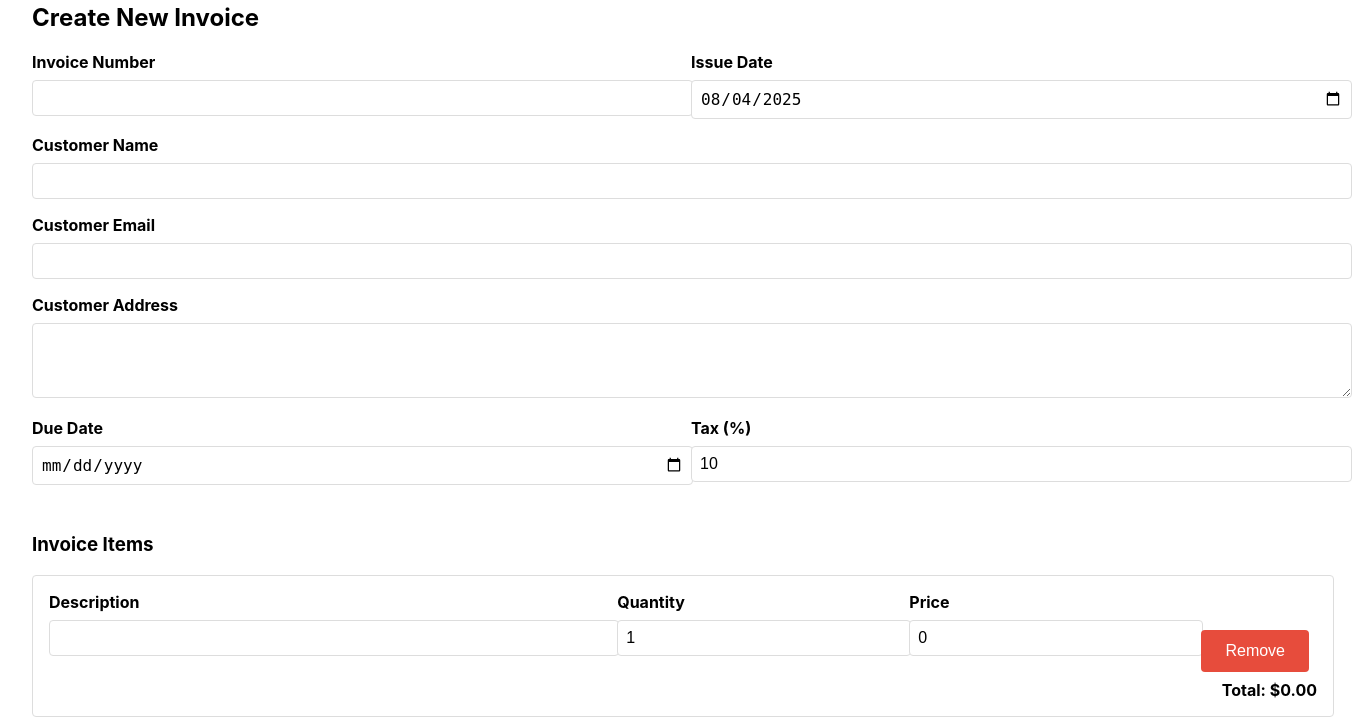
Test: InvoiceForm Component › handles floating point calculations correctly
Replace the text in the number field showing "1" below "Quantity" with "3" at (764, 638), box [617,620,911,656]
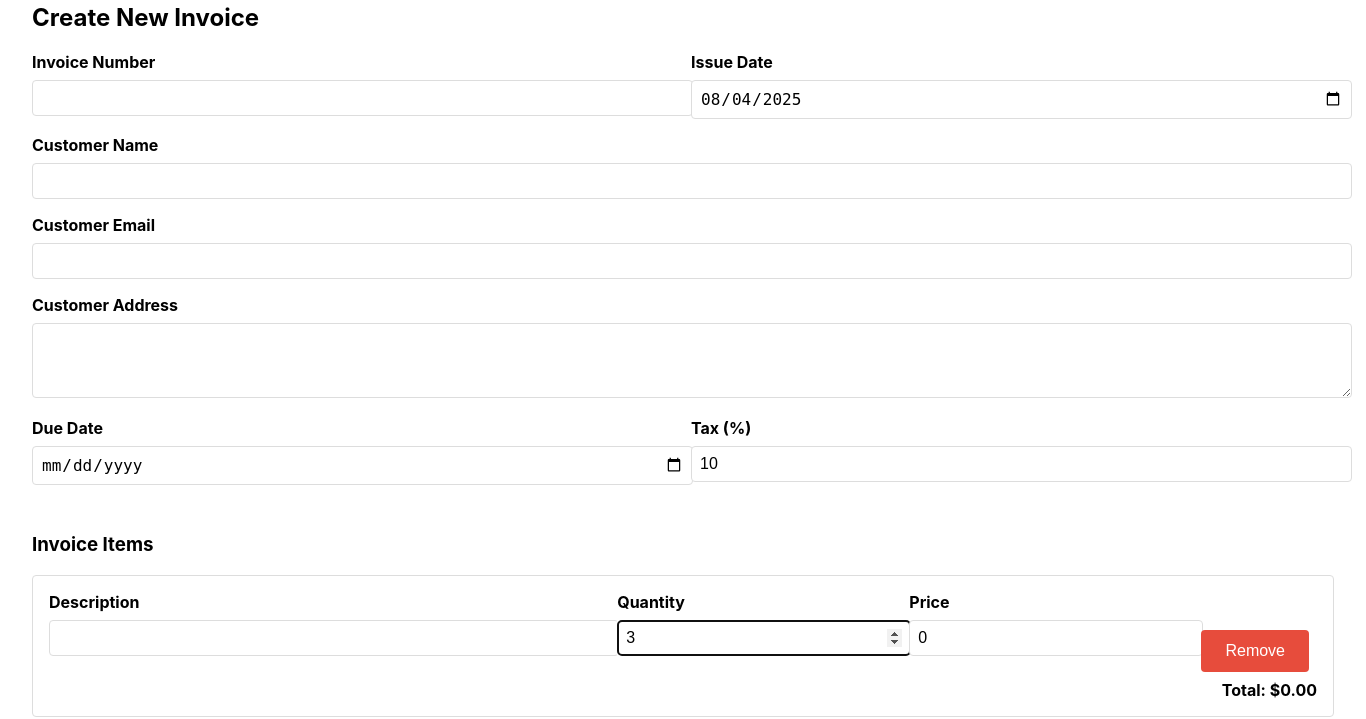
Replace the text in the number field showing "0" below "Price" with "0.1" at (1056, 638), box [909,620,1203,656]
(page scrolled)
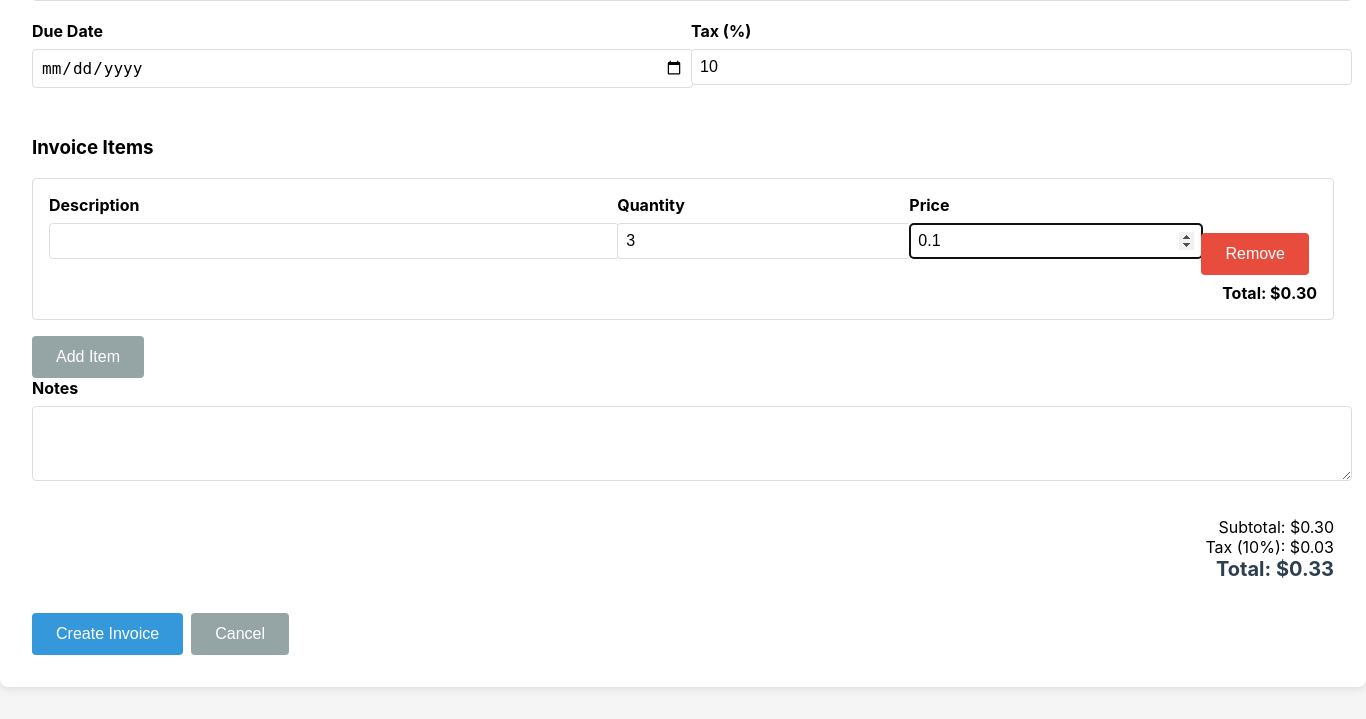
Expected: the text "Total: $0.30" is shown, [1222,282,1317,302]
Expected: the text "Subtotal: $0.30" is shown, [1218,516,1334,536]
Expected: the text "Tax (10%): $0.03" is shown, [1205,536,1334,556]
